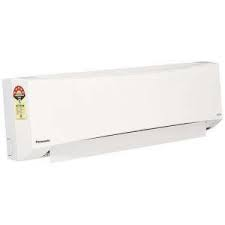ac: (2, 60, 225, 164)
